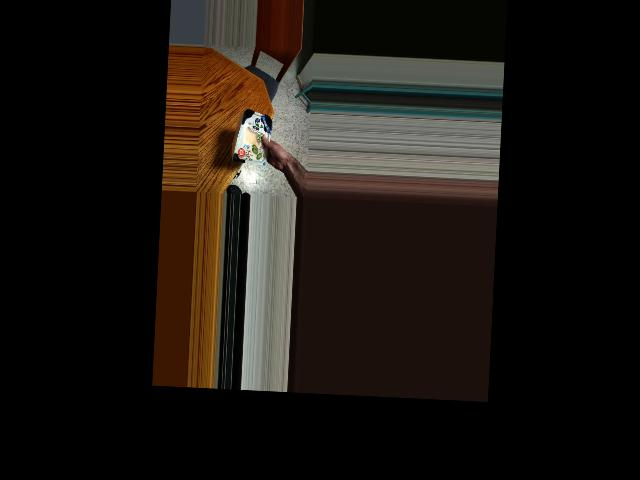cheese: (232, 114, 277, 156)
